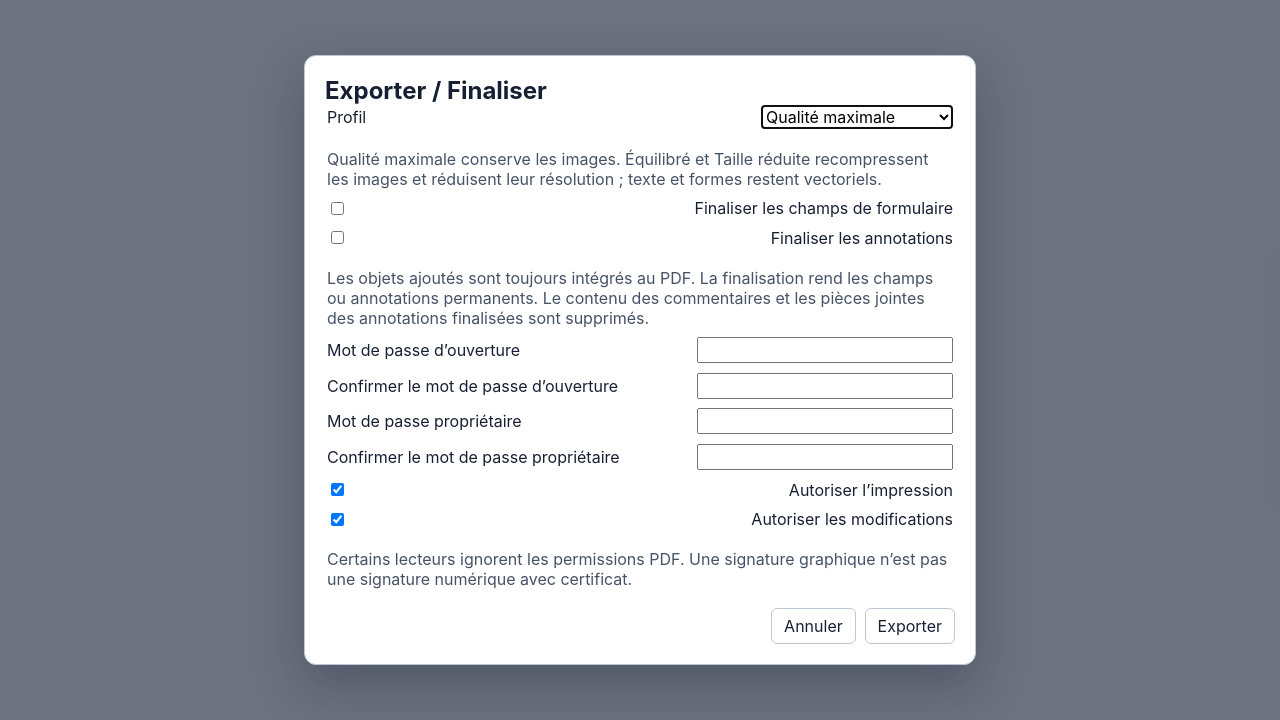
Test: AdvancedExportDialog security › passes options once and clears secrets after an unsuccessful attempt
Type "temporary" into the password field labelled "Mot de passe d’ouverture" at (825,350), box 697,337 -> 953,363
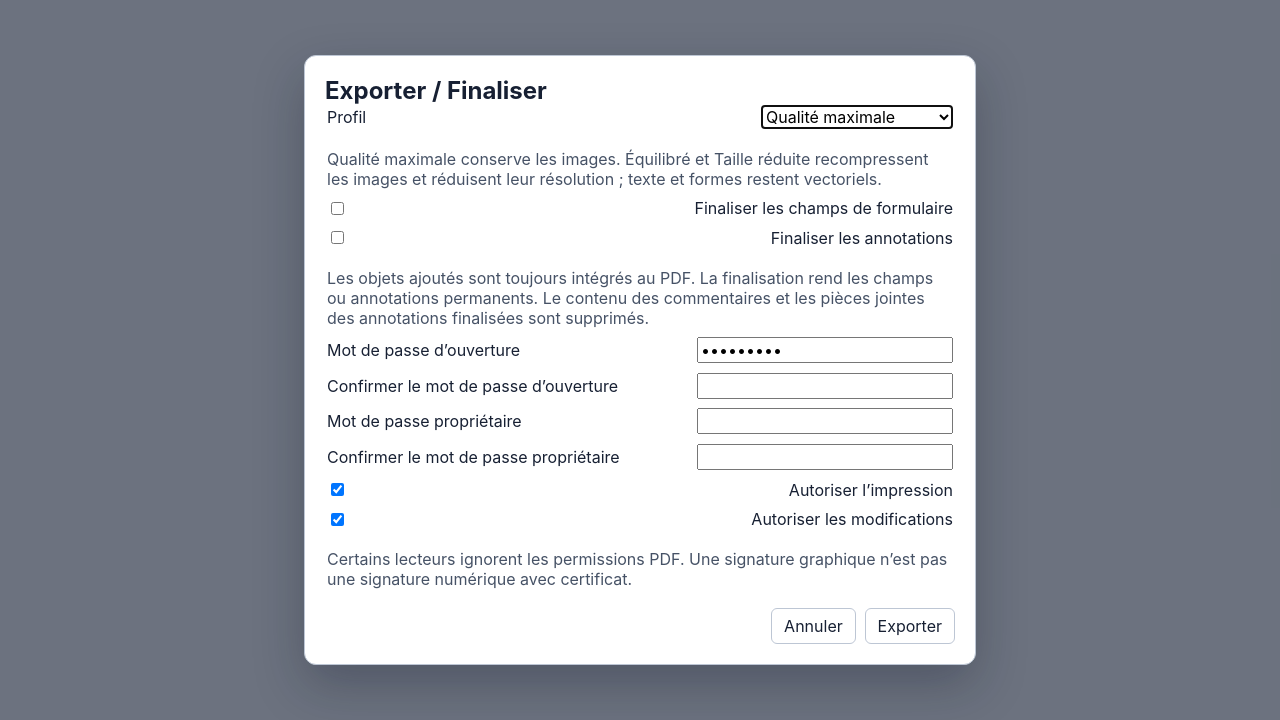
Type "temporary" into the password field labelled "Confirmer le mot de passe d’ouverture" at (825,386), box 697,373 -> 953,399
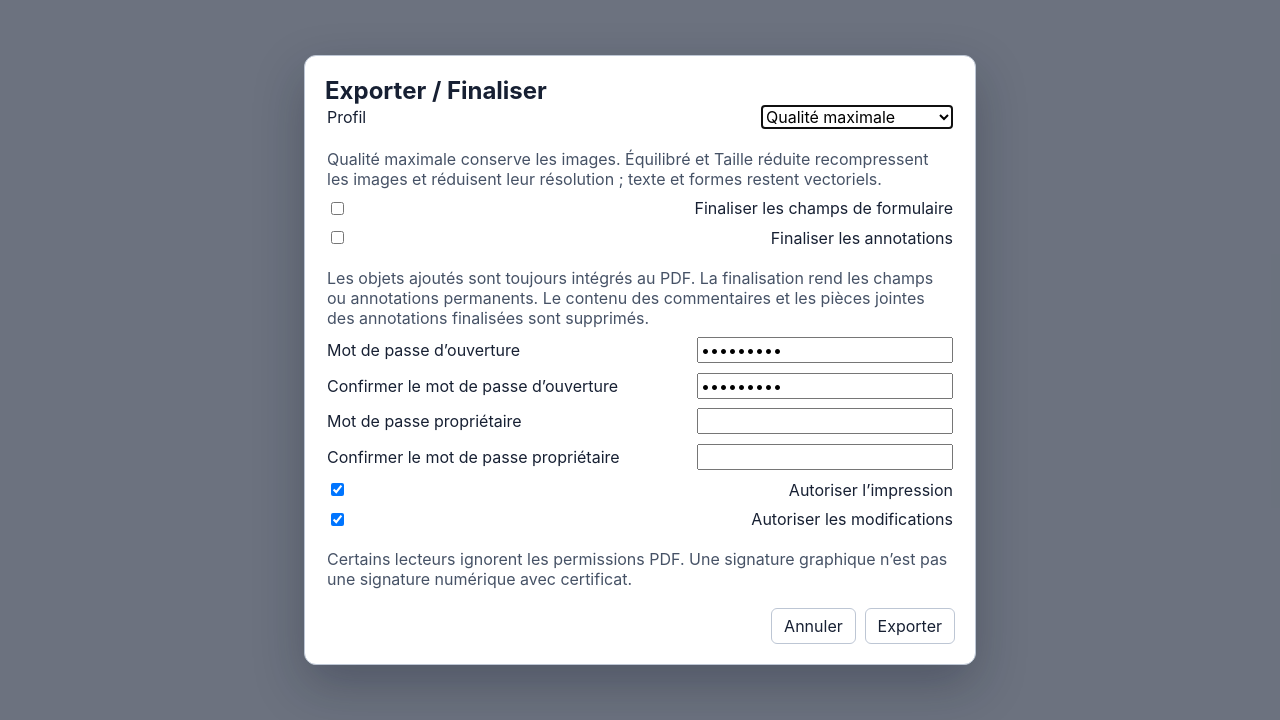
Select "Taille réduite" in the dropdown named "Profil de compression" at (857,116), box 761,104 -> 953,128
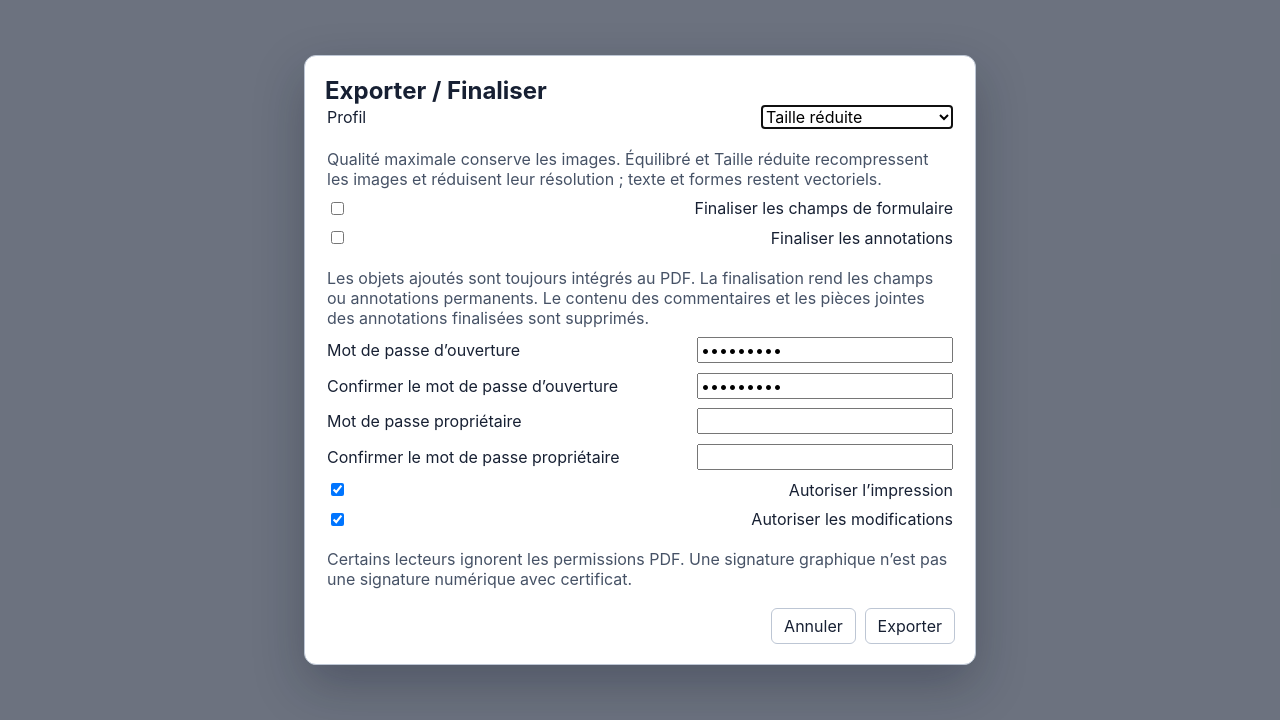
Click the button "Exporter" at (910,626), box 864,608 -> 955,644
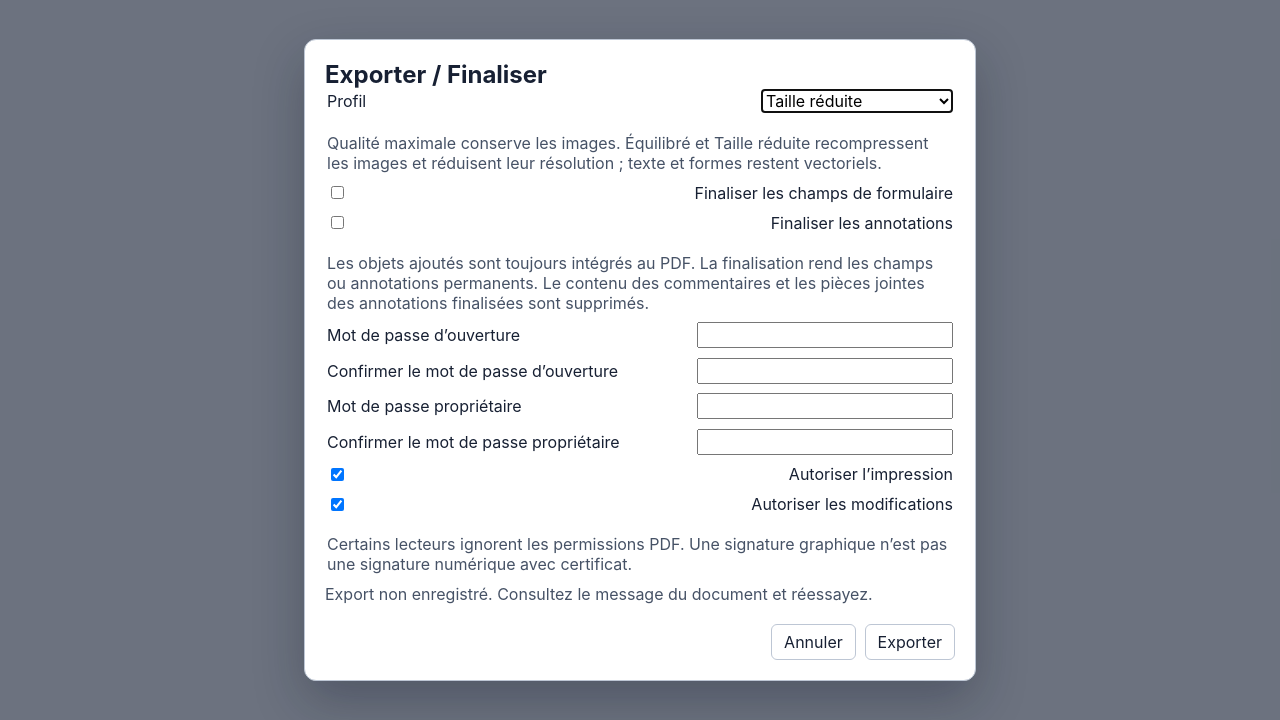
Now the password field labelled "Mot de passe d’ouverture" is empty, box 697,322 -> 953,348
Now the password field labelled "Confirmer le mot de passe d’ouverture" is empty, box 697,358 -> 953,384
Now the message shows "Export non enregistré", box 325,584 -> 873,604
